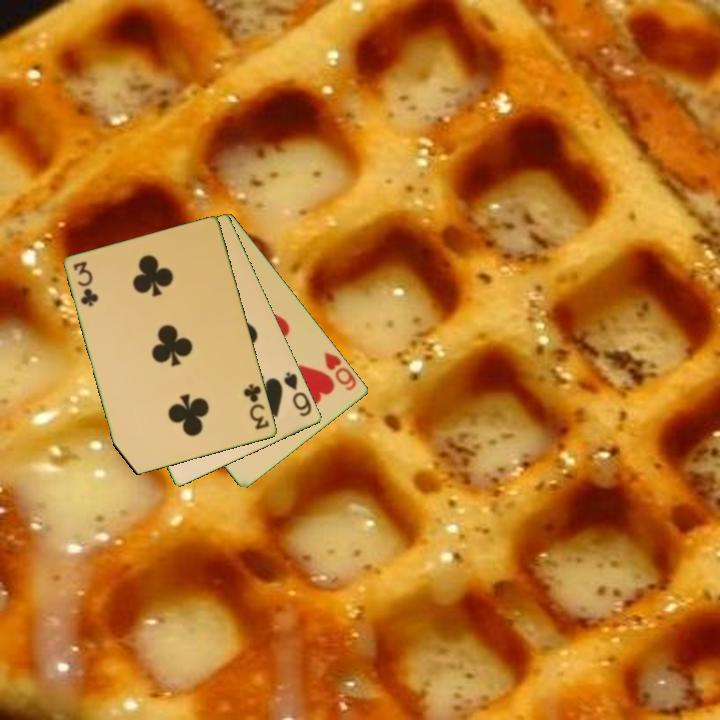3c: (240, 380, 272, 433), (70, 258, 101, 310)
6h: (321, 349, 360, 394)
6s: (280, 368, 315, 420)
